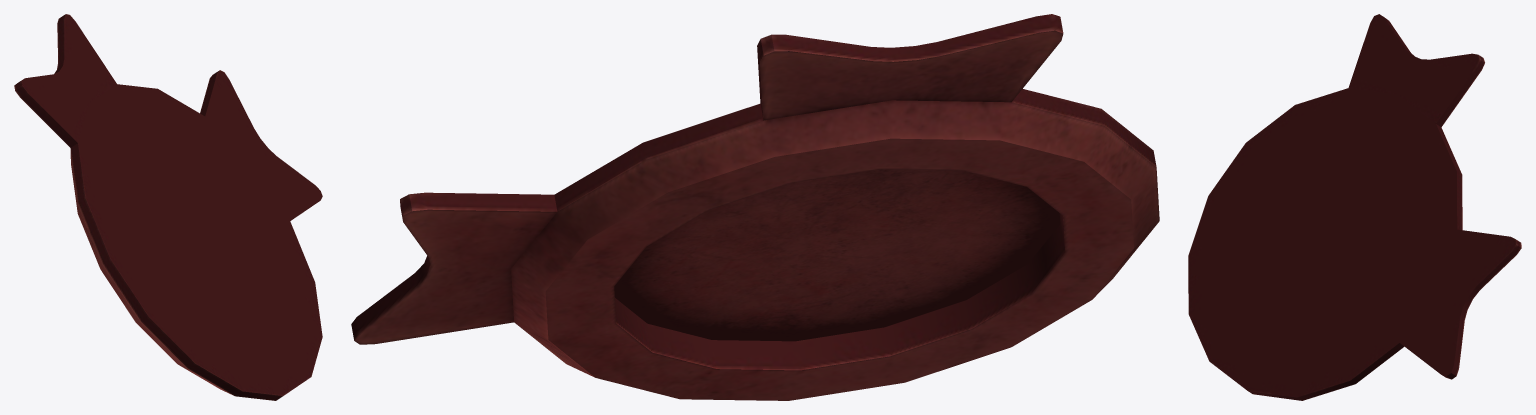
The model's file is stamp.obj.
3 renders of one model, left to right at view 1: azimuth 30°, elevation 25°; view 2: azimuth 150°, elevation 25°; view 3: azimuth 270°, elevation 25°, orthographic. The views are drawn at different scales.
Visible parts, largest first — view 1: dynamic; view 2: dynamic; view 3: dynamic.
Boxes of the visible parts, box(x1,y1,x2,y2) form: dynamic: box(14, 14, 322, 400); dynamic: box(351, 14, 1159, 400); dynamic: box(1188, 14, 1521, 400).
Bounding box in the file's own units: 565 × 483 × 510.
1 material, 1 textured.
